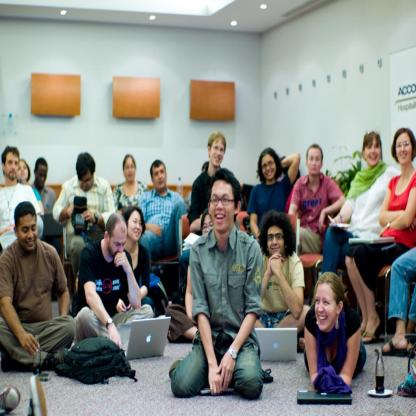board: (111, 304, 171, 366), (256, 327, 298, 361), (297, 390, 352, 405), (348, 235, 395, 244), (376, 348, 385, 394), (32, 334, 41, 378)
